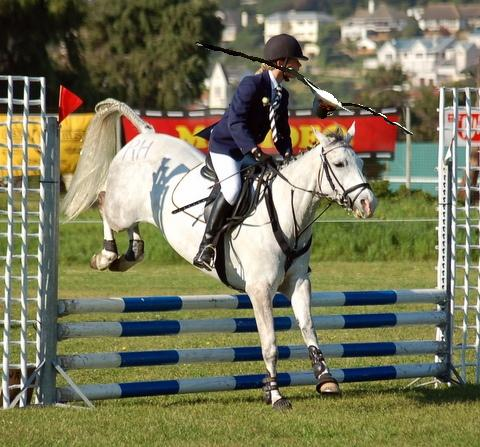tampered: (196, 43, 413, 135)
